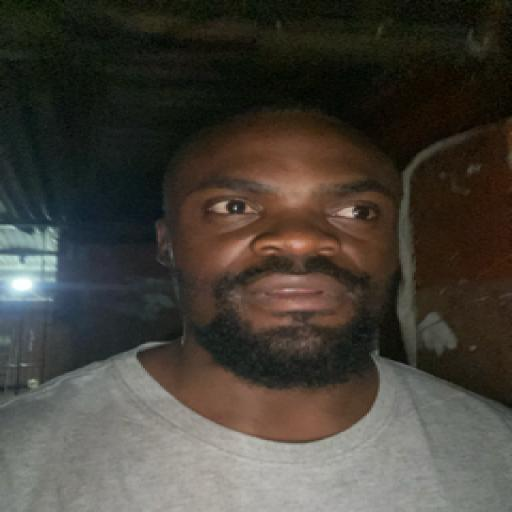JEANLUC: (164, 102, 400, 382)
